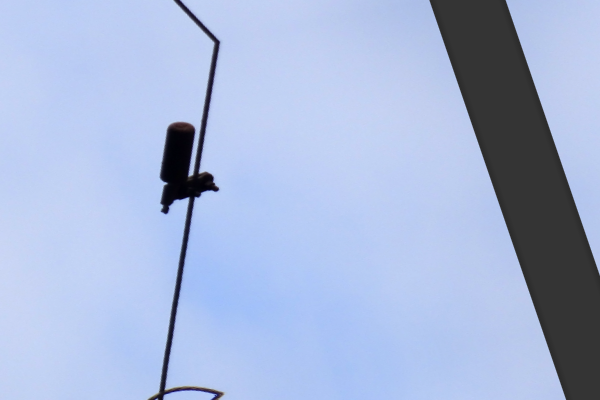damper_defect: (156, 119, 221, 218)
